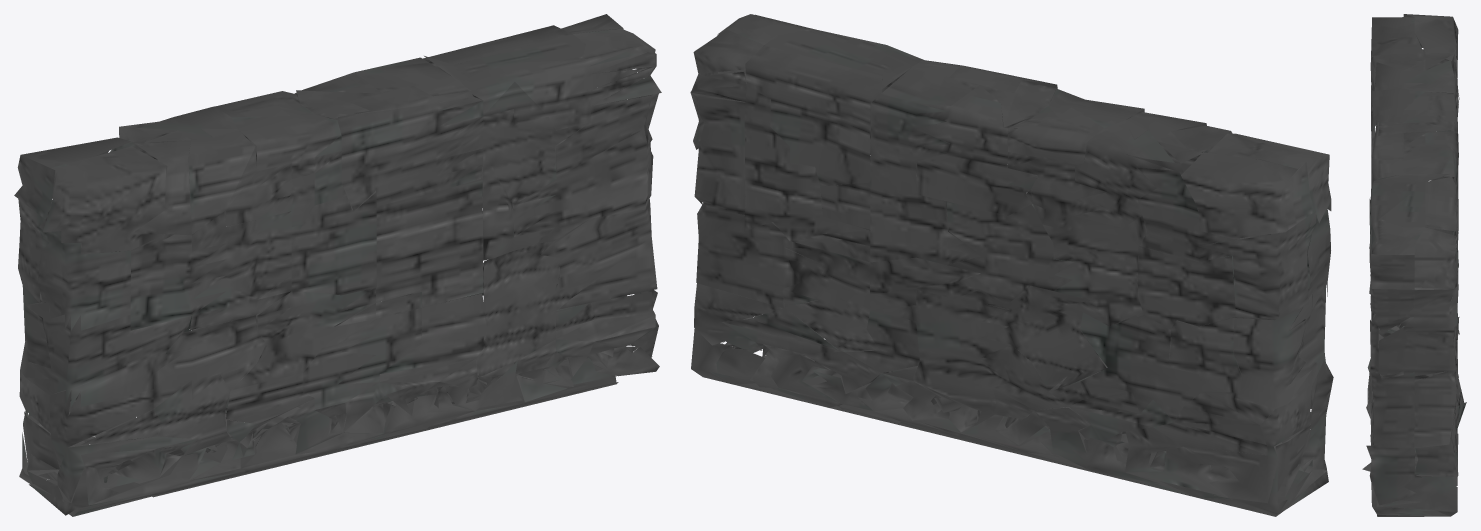
The model's file is dungeon long wall.glb.
3 renders of one model, left to right at view 1: azimuth 30°, elevation 25°; view 2: azimuth 150°, elevation 25°; view 3: azimuth 270°, elevation 25°, orthographic. The views are drawn at different scales.
Parts seen in each view (by area): view 1: Mesh_0; view 2: Mesh_0; view 3: Mesh_0.
Part boxes in pixels (x1=…): Mesh_0: x1=14, y1=14, x2=661, y2=516; Mesh_0: x1=690, y1=14, x2=1333, y2=516; Mesh_0: x1=1362, y1=14, x2=1466, y2=516.
Size of the model in its own units: 0.615 by 0.328 by 0.1138.
Materials: 1 (1 with a texture image).
